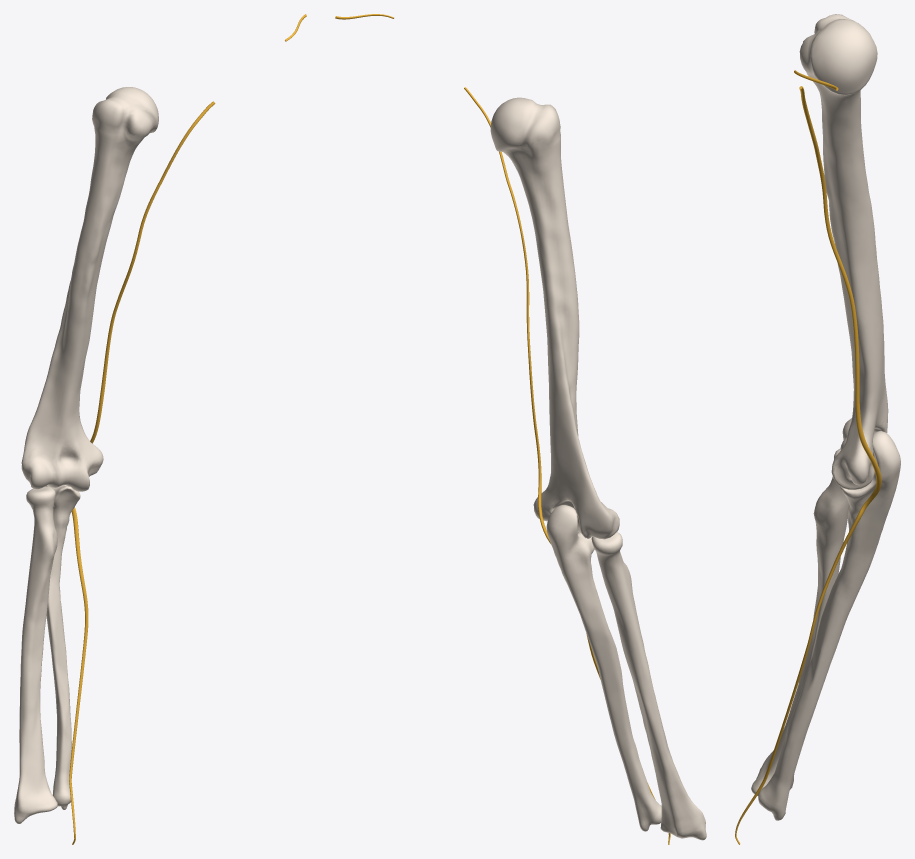
The model's file is ulnar-nerve.glb.
3 renders of one model, left to right at view 1: azimuth 30°, elevation 25°; view 2: azimuth 150°, elevation 25°; view 3: azimuth 270°, elevation 25°, orthographic. The views are drawn at different scales.
Parts seen in each view (by area): view 1: Humerus.r, Radius.r, Ulna.r, Ulnar nerve.r; view 2: Humerus.r, Ulna.r, Radius.r, Ulnar nerve.r; view 3: Humerus.r, Ulna.r, Radius.r, Ulnar nerve.r.
Boxes of the visible parts, box(x1,y1,x2,y2) form: Humerus.r: box(21, 87, 158, 491); Radius.r: box(14, 486, 57, 823); Ulna.r: box(46, 485, 80, 809); Ulnar nerve.r: box(69, 144, 181, 844); Humerus.r: box(490, 97, 619, 539); Ulna.r: box(546, 505, 661, 831); Radius.r: box(591, 532, 706, 840); Ulnar nerve.r: box(499, 151, 670, 844); Humerus.r: box(799, 14, 888, 489); Ulna.r: box(758, 431, 900, 820); Radius.r: box(751, 448, 848, 795); Ulnar nerve.r: box(735, 114, 881, 844).
Bounding box in the file's own units: 0.2694 × 0.5946 × 0.0968.
